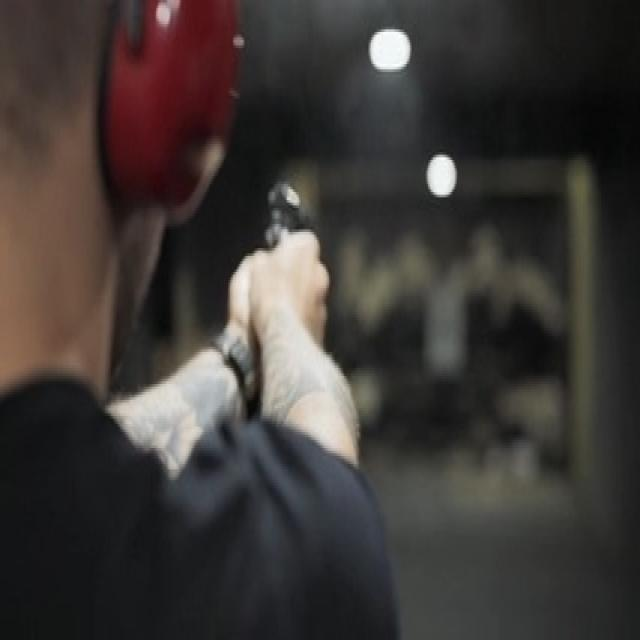Gun_Holder: (242, 170, 351, 350)
Person: (2, 0, 392, 640)
